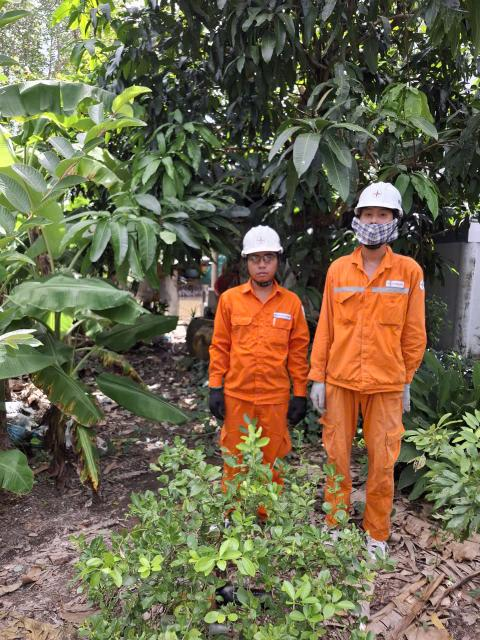gloves: (389, 380, 431, 420), (305, 369, 337, 421), (200, 377, 233, 420), (284, 391, 316, 423)
helmet: (340, 178, 411, 220), (239, 218, 290, 271)
